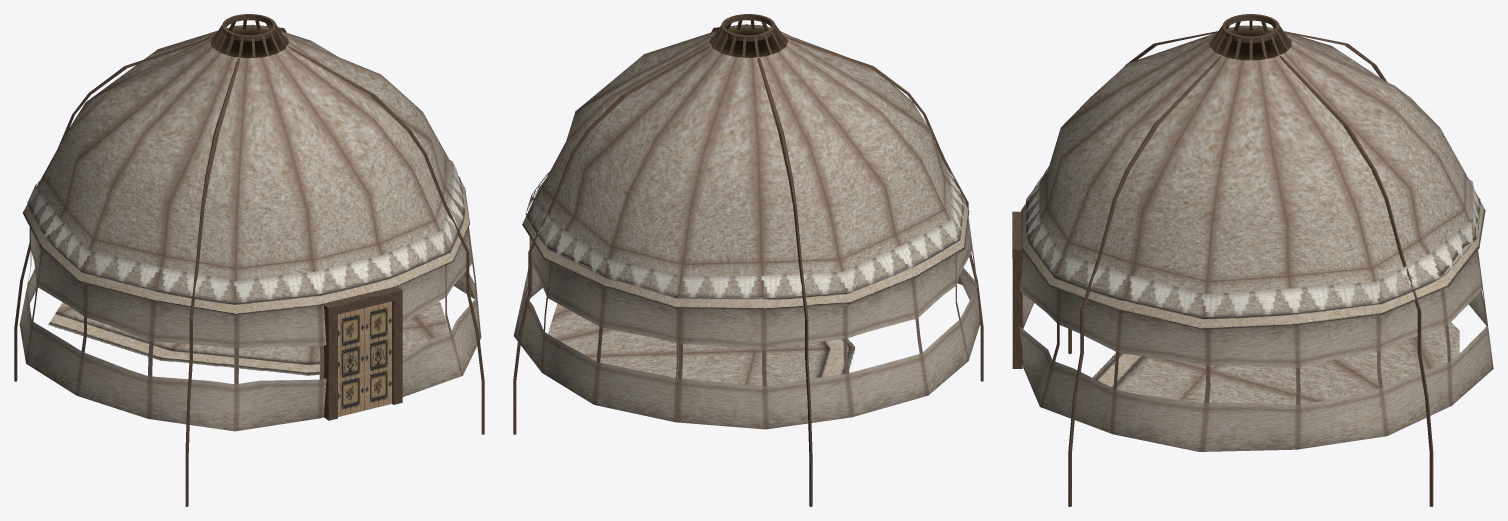
File: step_market_01.dae
3 renders of one model, left to right at view 1: azimuth 30°, elevation 25°; view 2: azimuth 150°, elevation 25°; view 3: azimuth 270°, elevation 25°, orthographic. The views are drawn at different scales.
Parts seen in each view (by area): view 1: Yurt-Floor.002; view 2: Yurt-Floor.002; view 3: Yurt-Floor.002.
Part boxes in pixels (left/top/right/bottom): Yurt-Floor.002: left=14, top=14, right=484, bottom=506; Yurt-Floor.002: left=513, top=14, right=983, bottom=506; Yurt-Floor.002: left=1012, top=14, right=1493, bottom=506.
Bounding box in the file's own units: 15.14 × 14.83 × 13.74.
